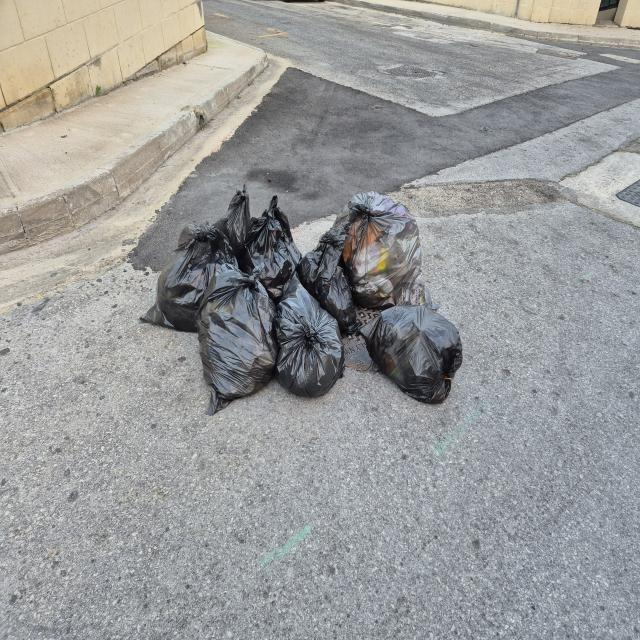black_bag: (321, 173, 446, 318), (188, 275, 290, 415), (366, 310, 471, 420), (137, 231, 243, 335), (272, 276, 346, 411), (215, 179, 296, 290), (298, 222, 366, 339)
